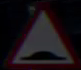Speed Breaker ahead: (7, 10, 68, 63)
